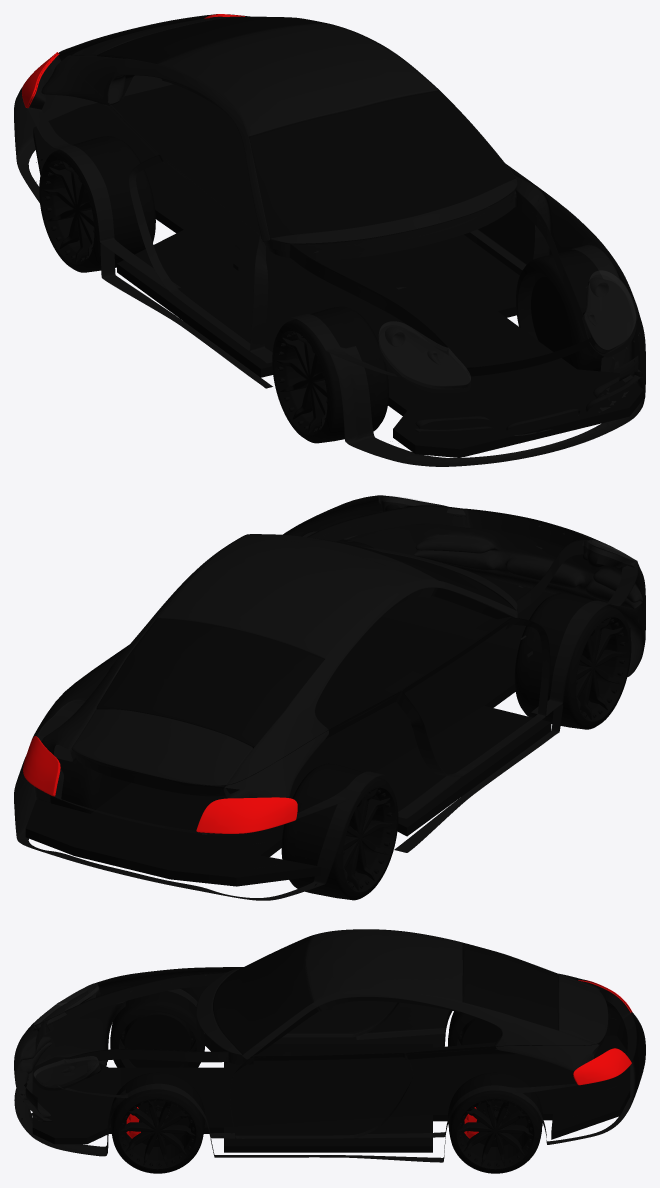
The model's file is porshe.glb.
3 renders of one model, top to bottom at view 1: azimuth 30°, elevation 25°; view 2: azimuth 150°, elevation 25°; view 3: azimuth 270°, elevation 25°, orthographic. The views are drawn at different scales.
Visible parts, largest first — view 1: subdMirror9; view 2: subdMirror9; view 3: subdMirror9.
Part boxes in pixels (x1,y1,x2,y2): subdMirror9: (14,14,645,466); subdMirror9: (14,495,645,900); subdMirror9: (14,929,645,1173).
Bounding box in the file's own units: 12.06 × 8.71 × 29.43.
